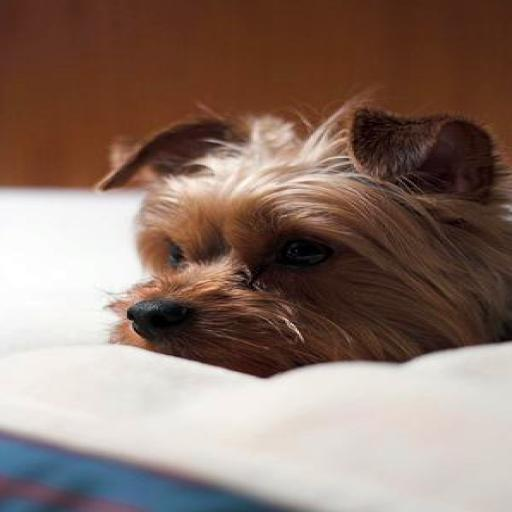dog_face: (97, 113, 503, 374)
